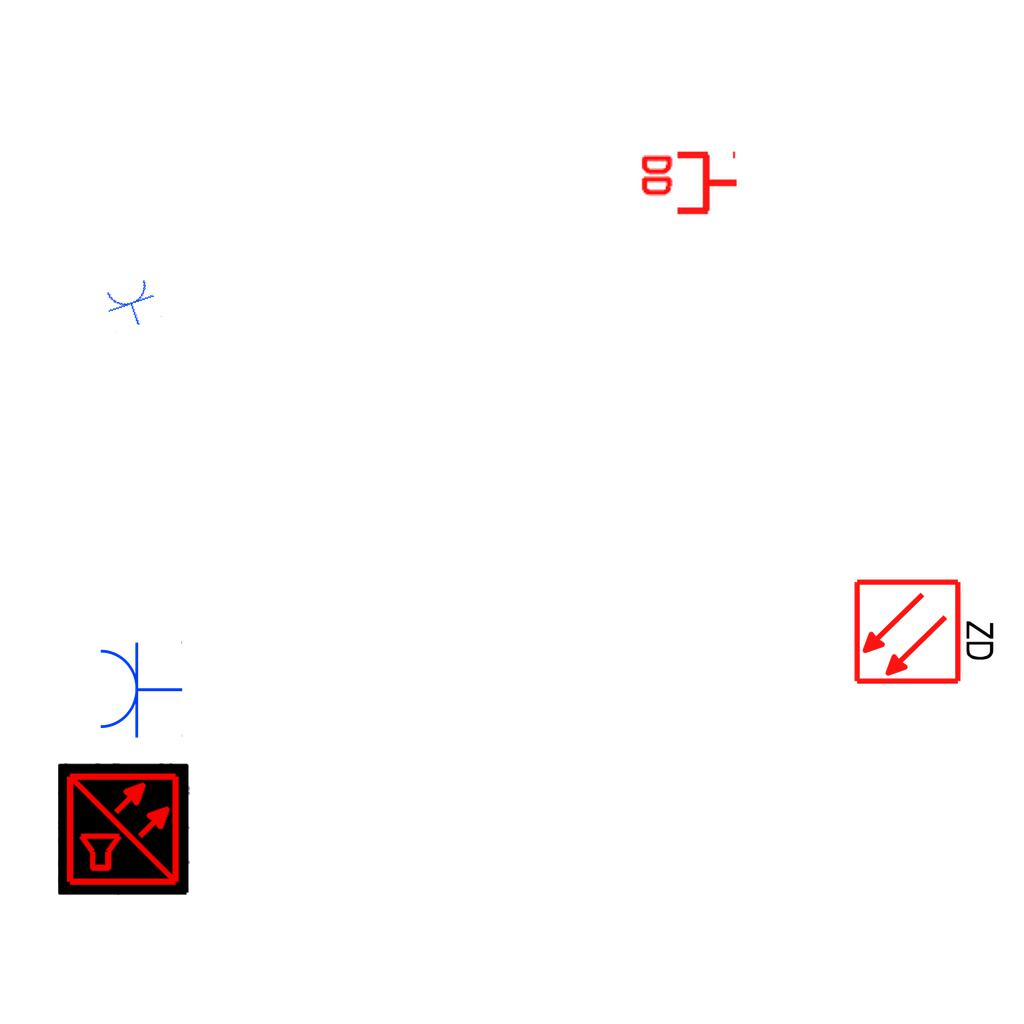Datenanschluss_zweifach: (637, 150, 740, 219)
OKW_Multisensormelder_(Kombination_optischer_Rauch-Kahlenmonoxid_Waerme-Melder): (58, 763, 190, 895)
Schukosteckdose_einfach: (96, 639, 183, 739), (101, 276, 163, 333)
ZD_Melder_in_Zwischendecke_mit_Revisionsoeffnung_mind_40_x_40_cm: (852, 573, 1001, 687)
